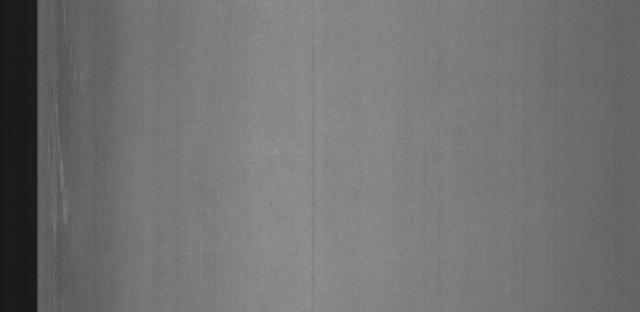silk_spot: (46, 115, 113, 234)
